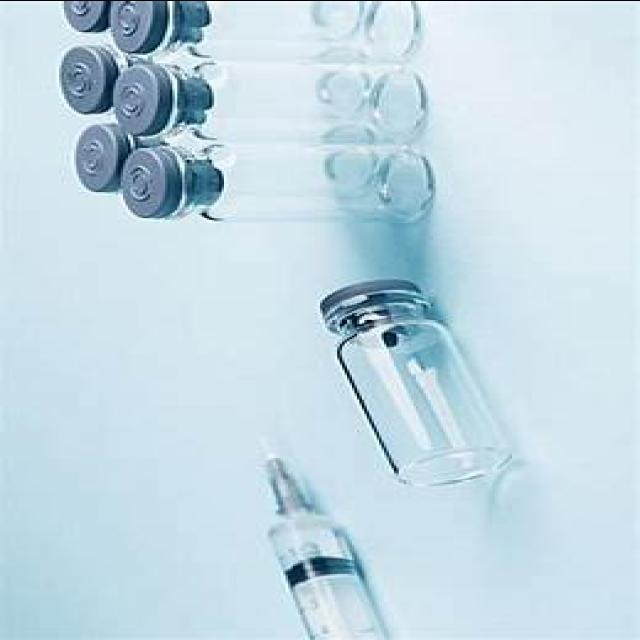vial: (307, 262, 413, 336), (114, 58, 180, 138), (58, 40, 120, 114), (120, 141, 182, 213), (72, 126, 130, 192), (112, 0, 162, 59), (62, 0, 116, 35)
